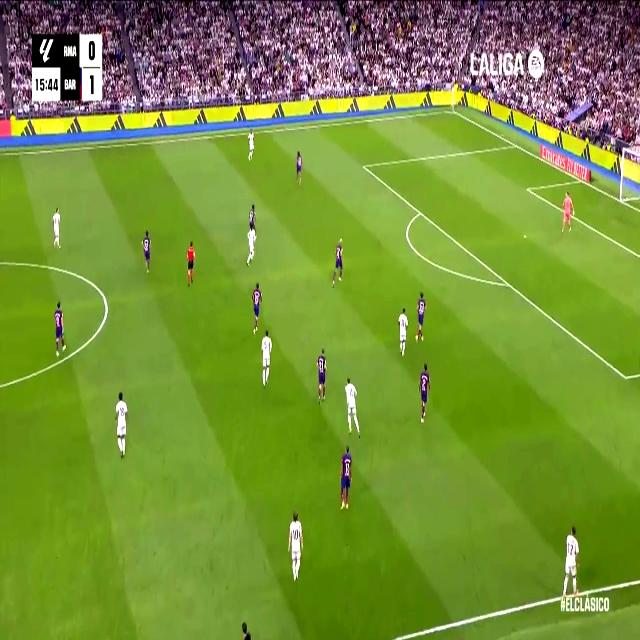bigarea_bottom_inner: (621, 364, 631, 388)
bigarea_top_inner: (360, 158, 368, 174)
bigarea_top_outter: (511, 137, 519, 150)
bottom_arc_area_intersection: (503, 274, 513, 293)
smallarea_top_inner: (524, 182, 531, 195)
top_arc_area_intersection: (416, 203, 424, 220)
